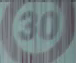Speed limit: (4, 2, 69, 56)
